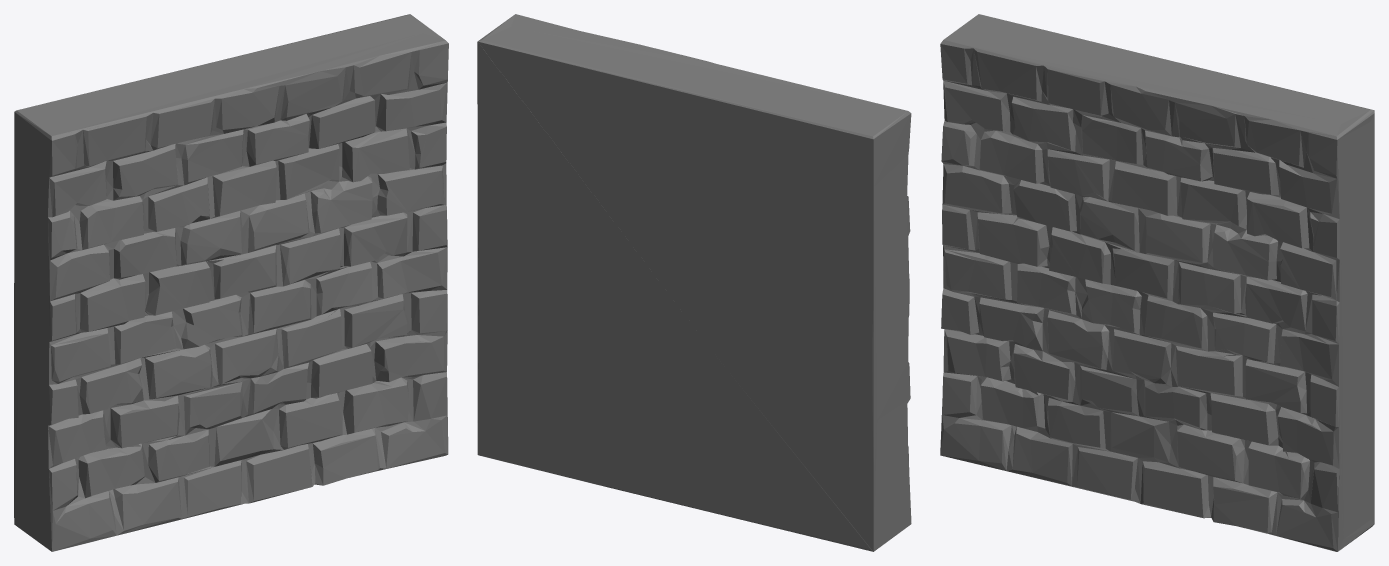
File: modular_wall_3x3m_f.FBX
The picture shows the model from 3 angles, left to right: view 1: azimuth 30°, elevation 25°; view 2: azimuth 150°, elevation 25°; view 3: azimuth 330°, elevation 25°; orthographic projection.
Visible parts, largest first — view 1: modular_wall_3x3m_f; view 2: modular_wall_3x3m_f; view 3: modular_wall_3x3m_f.
Part boxes in pixels (x1,y1,x2,y2): modular_wall_3x3m_f: (14, 14, 448, 551); modular_wall_3x3m_f: (477, 14, 911, 551); modular_wall_3x3m_f: (940, 14, 1374, 551).
Bounding box in the file's own units: 3 × 3 × 0.5005.
